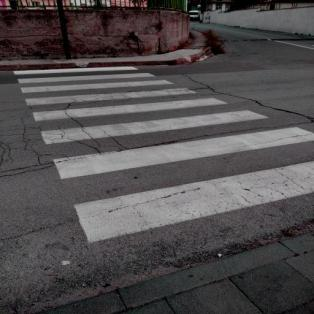Paso de Cebra: (24, 96, 274, 150), (11, 64, 163, 86)
